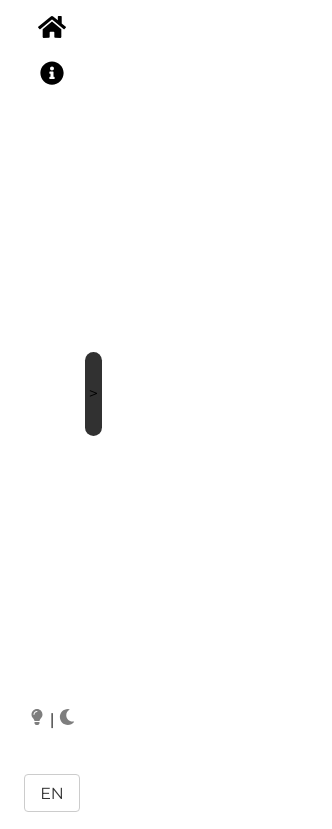
Test: Sidebar › toggles to non-collapsed state and button text changes to "<"
Click the button ">": click(93, 394) left=85, top=352, right=102, bottom=436
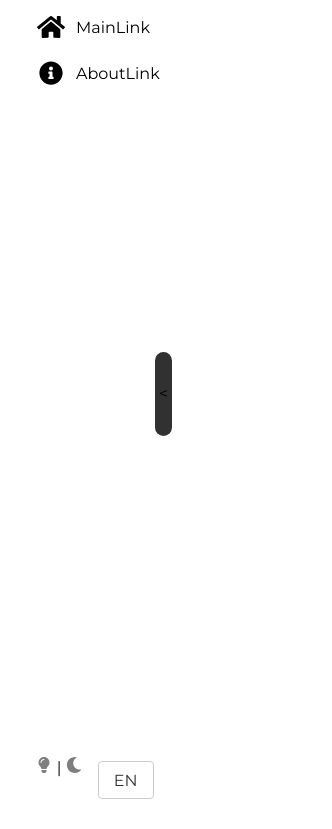
Expected: the button "<" is shown, left=155, top=352, right=172, bottom=436
